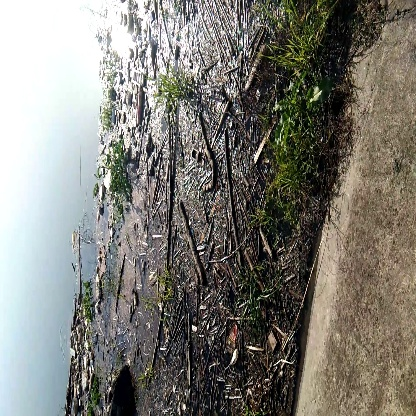branch: (175, 200, 214, 285)
